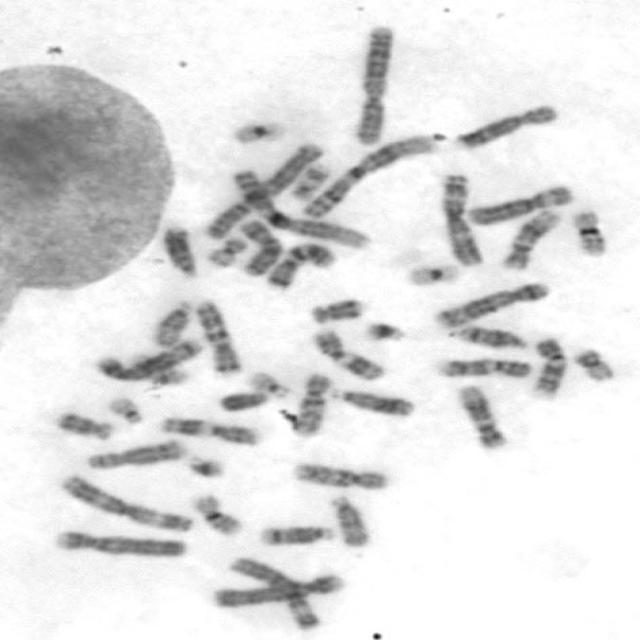A1: (296, 132, 439, 220), (228, 165, 371, 249)
A2: (195, 138, 327, 242), (347, 21, 396, 147)
A3: (53, 470, 195, 535), (434, 170, 487, 267)
B4: (206, 570, 349, 609), (49, 526, 188, 558)
B5: (429, 278, 553, 330), (90, 335, 206, 384)
C10: (287, 458, 392, 492), (284, 369, 334, 438)
C11: (306, 326, 386, 382), (154, 414, 260, 446)
C12: (496, 205, 562, 271), (453, 382, 511, 449)
C6: (224, 553, 324, 632), (461, 181, 576, 226)
C7: (190, 296, 244, 376), (260, 240, 338, 290)
C8: (449, 101, 560, 150), (81, 434, 187, 470)
C9: (526, 334, 570, 399), (433, 354, 534, 380)
D13: (327, 384, 418, 418), (157, 222, 201, 278)
D14: (453, 322, 529, 351), (253, 521, 335, 547)
D15: (326, 492, 372, 548), (146, 296, 194, 348)
E16: (187, 491, 246, 537), (568, 206, 609, 258)
E17: (286, 160, 334, 203)
E18: (52, 408, 115, 441), (305, 294, 368, 326)
F19: (400, 260, 464, 288), (225, 117, 288, 145)
F20: (569, 344, 617, 382), (200, 234, 250, 270)
G21: (182, 452, 229, 480), (358, 318, 408, 343)
G22: (243, 368, 293, 398), (104, 393, 145, 426)
X: (233, 216, 285, 277)
Y: (214, 387, 271, 413)
